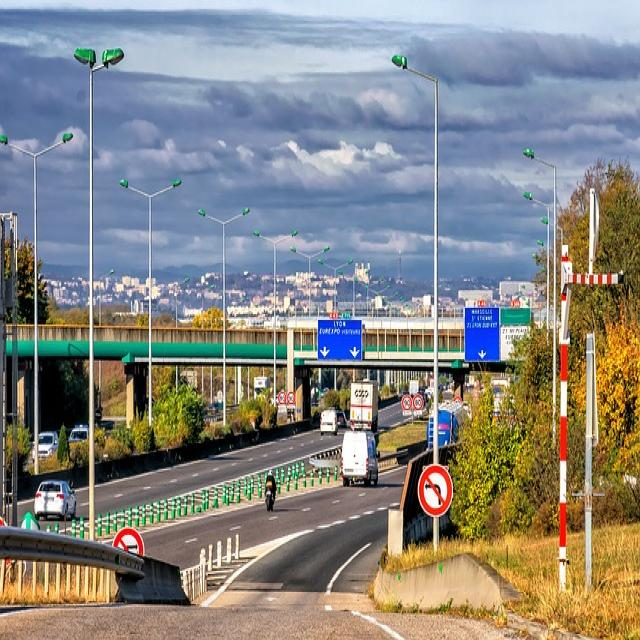direction: (315, 311, 364, 364), (462, 302, 500, 362)
forbidden: (418, 462, 454, 516), (114, 524, 144, 558)
